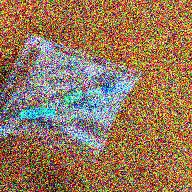러키펜정: (114, 81, 133, 93)
씨엠지세파클러캡슐: (85, 85, 116, 97)
에르도캡슐: (19, 108, 56, 120)
휴티렌정: (61, 90, 85, 106)
